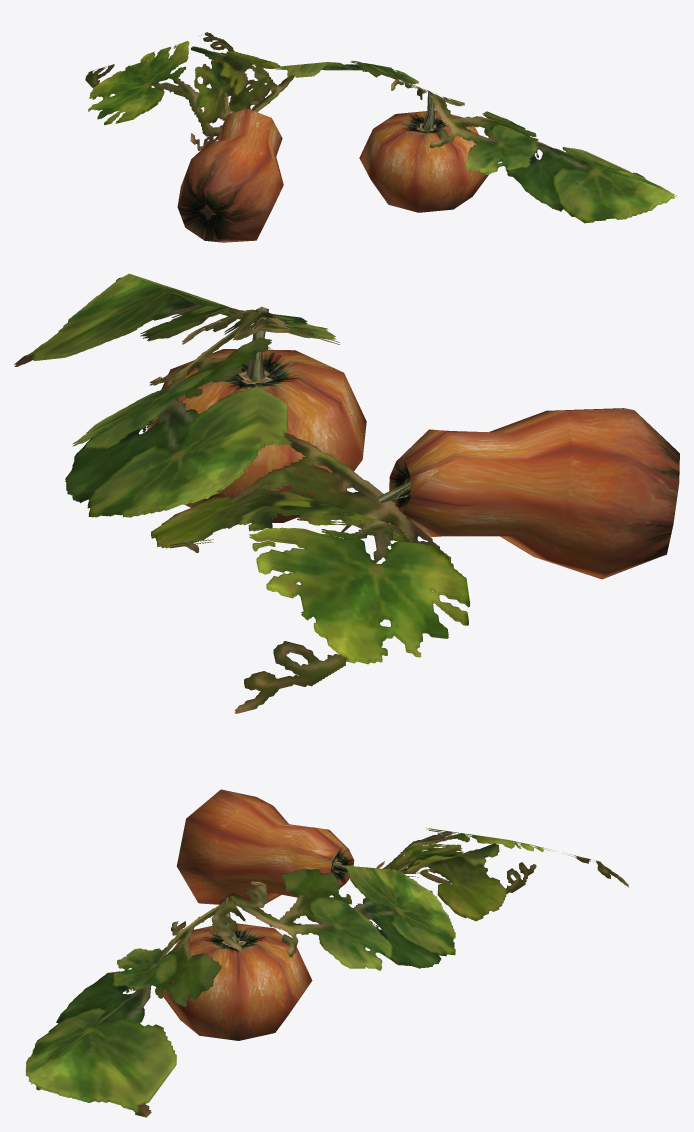
Rendered from wm_蔬菜南瓜04.fbx.
The picture shows the model from 3 angles, top to bottom: view 1: azimuth 30°, elevation 25°; view 2: azimuth 150°, elevation 25°; view 3: azimuth 270°, elevation 25°; orthographic projection. The views are drawn at different scales.
Parts seen in each view (by area): view 1: wm_蔬菜南瓜04; view 2: wm_蔬菜南瓜04; view 3: wm_蔬菜南瓜04.
Boxes of the visible parts, bbox=[...] form: wm_蔬菜南瓜04: bbox=[85, 32, 676, 242]; wm_蔬菜南瓜04: bbox=[14, 273, 679, 713]; wm_蔬菜南瓜04: bbox=[25, 789, 628, 1117].
Size of the model in its own units: 251 by 61.57 by 278.
